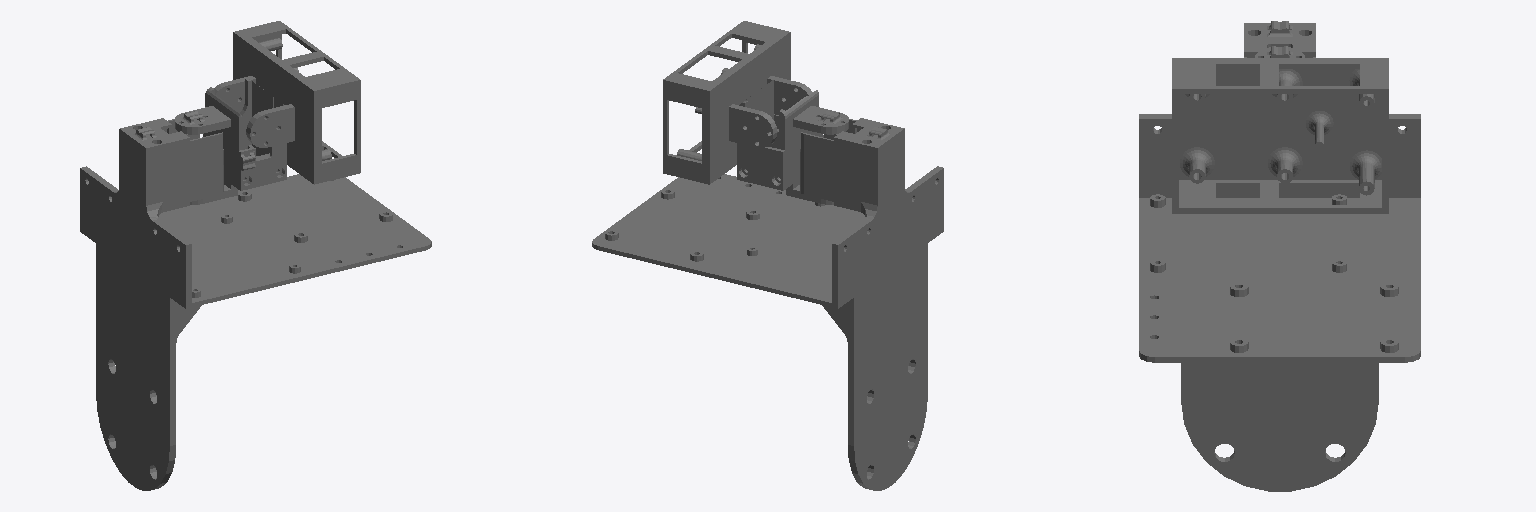
robot.urdf — gimbal_urdf:
<?xml version="1.0" encoding="utf-8"?>
<!-- This URDF was automatically created by SolidWorks to URDF Exporter! Originally created by [author] ([email redacted]) 
     Commit Version: 1.6.0-4-g7f85cfe  Build Version: 1.6.7995.38578
     For more information, please see http://wiki.ros.org/sw_urdf_exporter -->
<robot
  name="gimbal_urdf">
  <link
    name="base_link">
    <inertial>
      <origin
        xyz="0.0336460086636299 1.91394764093578E-05 0.065168929373858"
        rpy="0 0 0" />
      <mass
        value="0.10275299110215" />
      <inertia
        ixx="0.00014206840782907"
        ixy="-2.88136939462501E-07"
        ixz="-2.00404815957952E-05"
        iyy="0.000247979124881713"
        iyz="-1.73576391905378E-08"
        izz="0.000197897075798218" />
    </inertial>
    <visual>
      <origin
        xyz="0 0 0"
        rpy="0 0 0" />
      <geometry>
        <mesh
          filename="package://gimbal_urdf/meshes/base_link.STL" />
      </geometry>
      <material
        name="">
        <color
          rgba="0.501960784313725 0.501960784313725 0.501960784313725 1" />
      </material>
    </visual>
    <collision>
      <origin
        xyz="0 0 0"
        rpy="0 0 0" />
      <geometry>
        <mesh
          filename="package://gimbal_urdf/meshes/base_link.STL" />
      </geometry>
    </collision>
  </link>
  <link
    name="mid_link">
    <inertial>
      <origin
        xyz="-0.0172336434948986 0.0197542301370697 -0.00162642838239672"
        rpy="0 0 0" />
      <mass
        value="0.0113754397942682" />
      <inertia
        ixx="2.70507401167344E-06"
        ixy="-4.31360472710167E-08"
        ixz="-9.80240852168054E-08"
        iyy="2.65914406619723E-06"
        iyz="9.28247349172708E-08"
        izz="3.23718130953593E-06" />
    </inertial>
    <visual>
      <origin
        xyz="0 0 0"
        rpy="0 0 0" />
      <geometry>
        <mesh
          filename="package://gimbal_urdf/meshes/mid_link.STL" />
      </geometry>
      <material
        name="">
        <color
          rgba="0.501960784313725 0.501960784313725 0.501960784313725 1" />
      </material>
    </visual>
    <collision>
      <origin
        xyz="0 0 0"
        rpy="0 0 0" />
      <geometry>
        <mesh
          filename="package://gimbal_urdf/meshes/mid_link.STL" />
      </geometry>
    </collision>
  </link>
  <joint
    name="mid_joint"
    type="revolute">
    <origin
      xyz="0.02975 0 0.0975"
      rpy="1.6035 1.5708 0" />
    <parent
      link="base_link" />
    <child
      link="mid_link" />
    <axis
      xyz="1 0 0" />
    <limit
      lower="0"
      upper="0"
      effort="0"
      velocity="0" />
  </joint>
  <link
    name="dist_link">
    <inertial>
      <origin
        xyz="0.0163966658321164 -0.00685060795640711 -0.001618955216546"
        rpy="0 0 0" />
      <mass
        value="0.0182511913895472" />
      <inertia
        ixx="1.26767607234961E-05"
        ixy="-8.29381838986479E-07"
        ixz="-2.18676297528429E-07"
        iyy="1.10381871193297E-05"
        iyz="9.13640369977937E-08"
        izz="5.30328670558707E-06" />
    </inertial>
    <visual>
      <origin
        xyz="0 0 0"
        rpy="0 0 0" />
      <geometry>
        <mesh
          filename="package://gimbal_urdf/meshes/dist_link.STL" />
      </geometry>
      <material
        name="">
        <color
          rgba="0.501960784313725 0.501960784313725 0.501960784313725 1" />
      </material>
    </visual>
    <collision>
      <origin
        xyz="0 0 0"
        rpy="0 0 0" />
      <geometry>
        <mesh
          filename="package://gimbal_urdf/meshes/dist_link.STL" />
      </geometry>
    </collision>
  </link>
  <joint
    name="dist_joint"
    type="revolute">
    <origin
      xyz="-0.0325 0.0255 0"
      rpy="0 0 1.9666" />
    <parent
      link="mid_link" />
    <child
      link="dist_link" />
    <axis
      xyz="0 0 1" />
    <limit
      lower="0"
      upper="0"
      effort="0"
      velocity="0" />
  </joint>
</robot>

--- Facts derived from the render (not from the file) ---
3 views of the same robot in one strip: view 1: azimuth 30°, elevation 25°; view 2: azimuth 150°, elevation 25°; view 3: azimuth 270°, elevation 25° (orthographic).
Robot: gimbal_urdf — 3 links, 2 joints (2 revolute); root link base_link; default pose: every joint at zero.
Links seen in each view (by area): view 1: base_link, dist_link, mid_link; view 2: base_link, dist_link, mid_link; view 3: base_link, dist_link, mid_link.
Boxes of the visible links, x1,y1,x2,y2 form: base_link: (80, 118, 431, 490); dist_link: (214, 21, 360, 184); mid_link: (175, 79, 286, 204); base_link: (592, 118, 943, 490); dist_link: (663, 21, 812, 184); mid_link: (737, 80, 848, 204); base_link: (1139, 21, 1420, 491); dist_link: (1172, 58, 1388, 213); mid_link: (1230, 46, 1329, 192).
Bounding box of the posed robot: 0.1233 × 0.09 × 0.1833 m (x, y, z).
Meshes: 3 distinct files referenced, 3 mesh visuals loaded (3 binary STL).